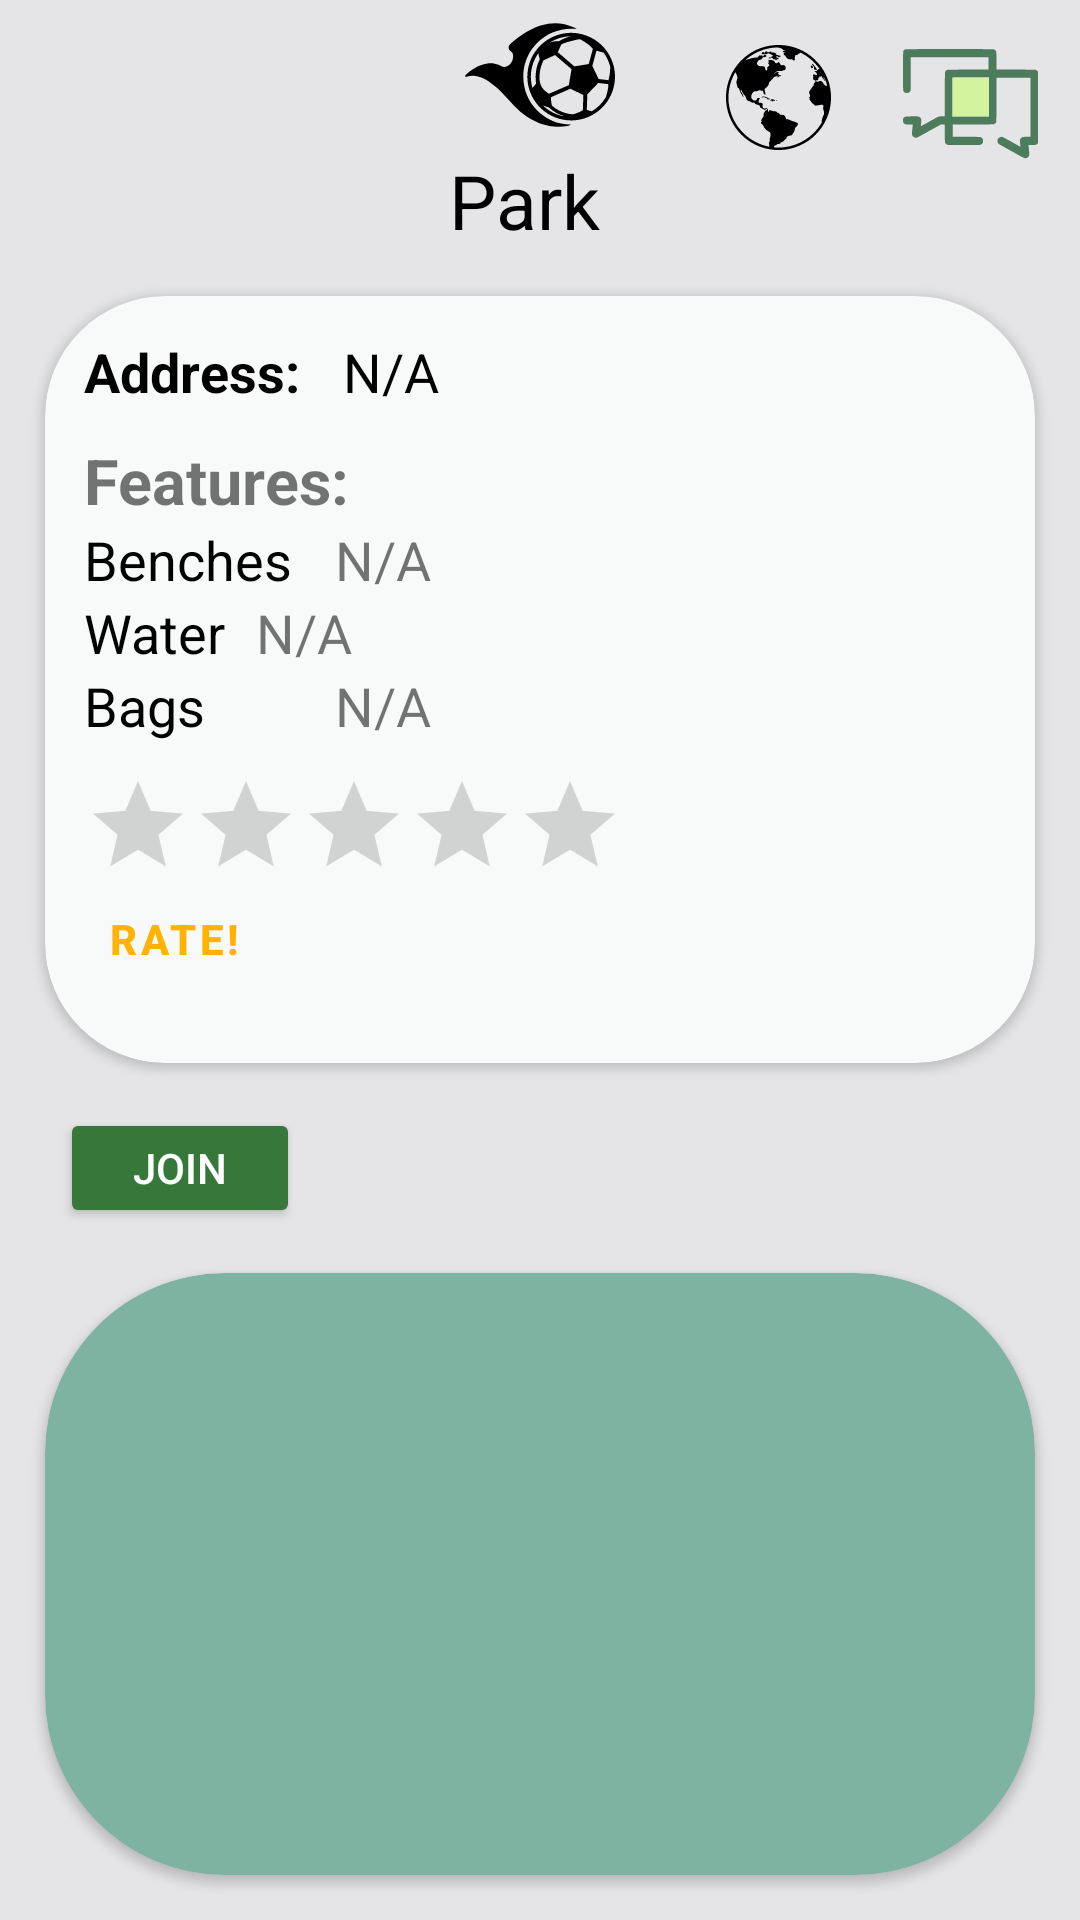

Where icons sit on this 1080w x 1920h app screen, as (x1, y1, x2, y2):
chat: (903, 49, 1038, 159)
globe: (726, 45, 831, 150)
soccer: (465, 23, 615, 127)
